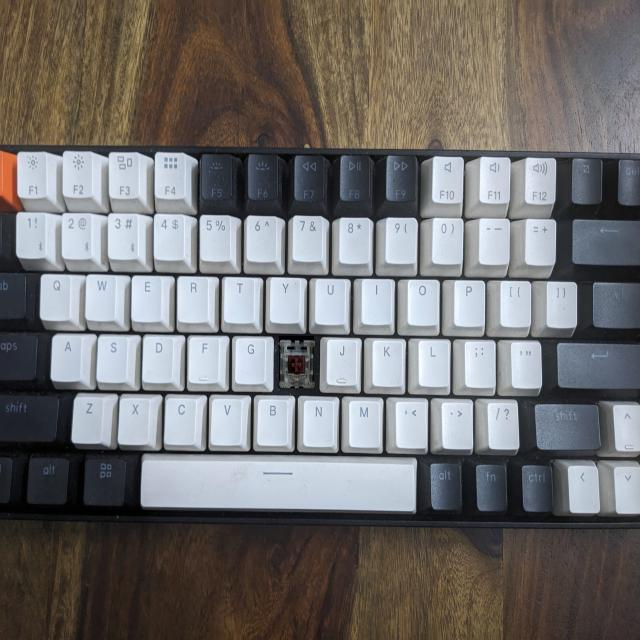C: (279, 336, 314, 388)
